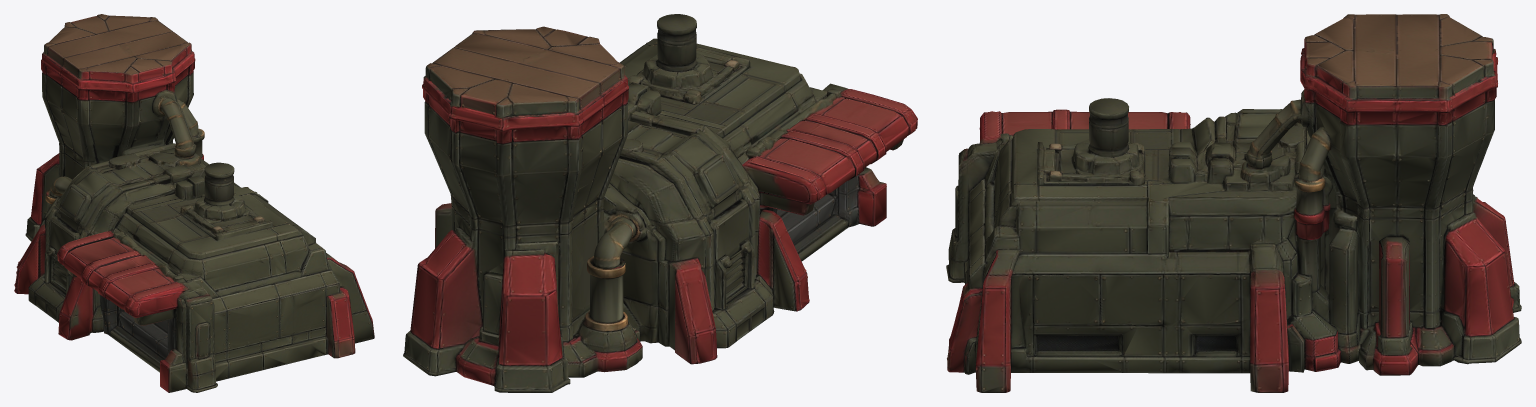
Rendered from ore-refinery.glb.
The picture shows the model from 3 angles, left to right: view 1: azimuth 30°, elevation 25°; view 2: azimuth 150°, elevation 25°; view 3: azimuth 270°, elevation 25°; orthographic projection. The views are drawn at different scales.
Visible parts, largest first — view 1: mesh_node; view 2: mesh_node; view 3: mesh_node.
Part boxes in pixels (left/top/right/bottom): mesh_node: left=14, top=14, right=374, bottom=392; mesh_node: left=403, top=14, right=917, bottom=392; mesh_node: left=946, top=14, right=1521, bottom=392.
Size of the model in its own units: 1.32 by 1.06 by 2.
Materials: 1 (1 with a texture image).
